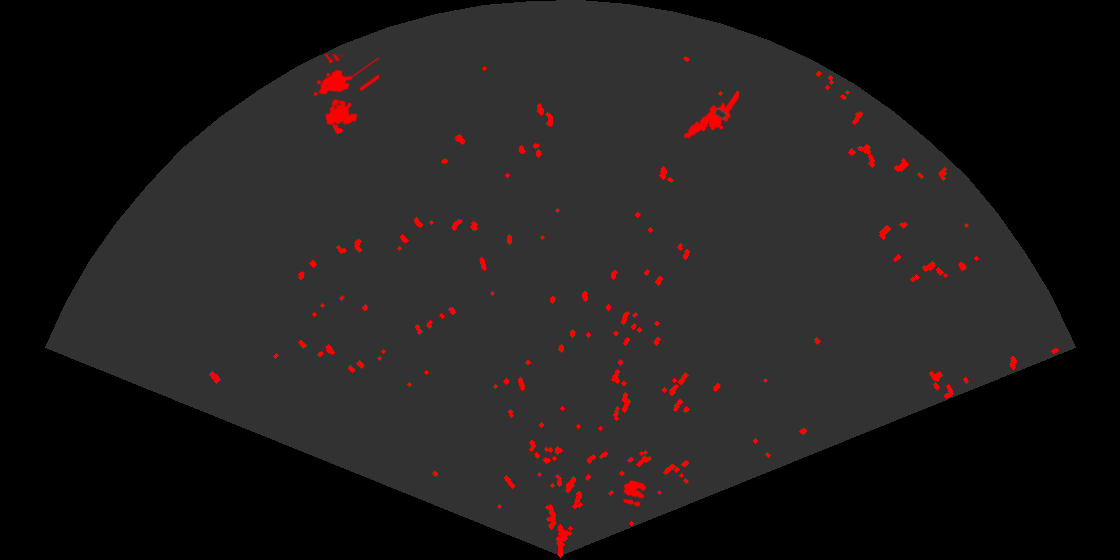ball: (621, 478, 648, 508)
cage: (312, 54, 379, 127)
frogman: (682, 91, 739, 140)
